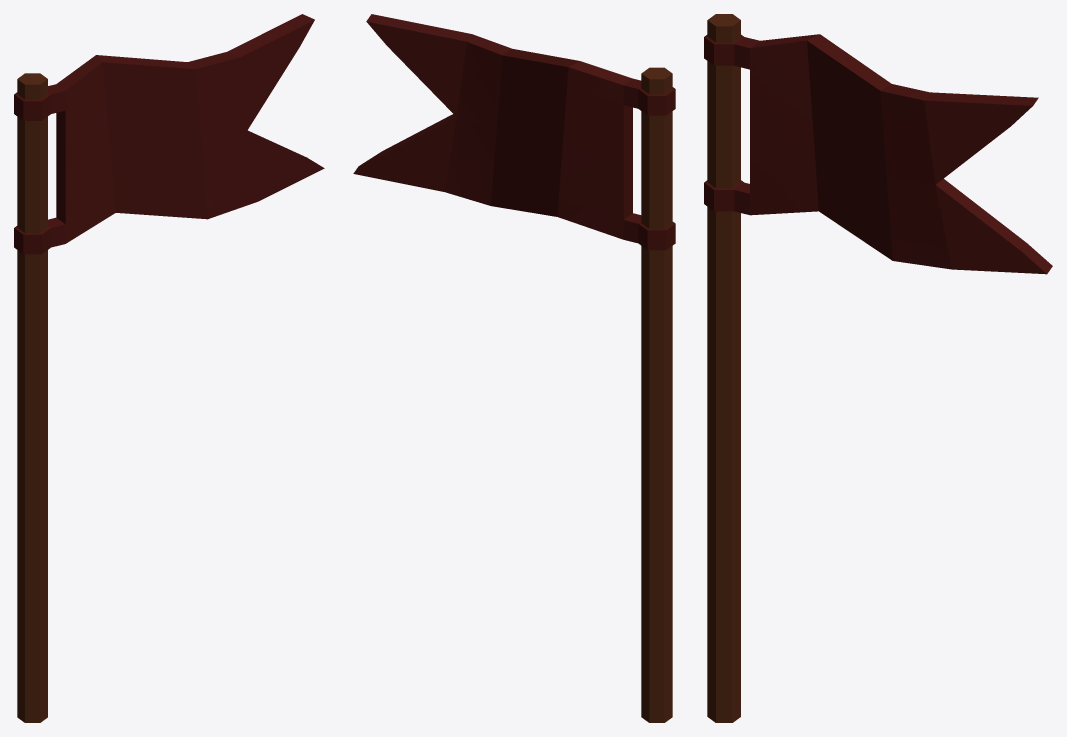
The model's file is Flag.obj.
The picture shows the model from 3 angles, left to right: view 1: azimuth 30°, elevation 25°; view 2: azimuth 150°, elevation 25°; view 3: azimuth 330°, elevation 25°; orthographic projection. The views are drawn at different scales.
Visible parts, largest first — view 1: Flag; view 2: Flag; view 3: Flag.
Boxes of the visible parts, bbox=[...] form: Flag: bbox=[14, 14, 324, 722]; Flag: bbox=[353, 14, 675, 722]; Flag: bbox=[704, 14, 1052, 722].
Bounding box in the file's own units: 2.05 × 4.06 × 0.2778.
